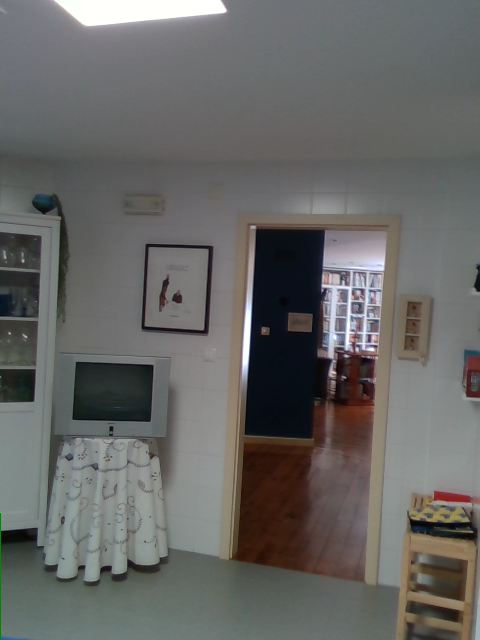open: (220, 210, 402, 589)
